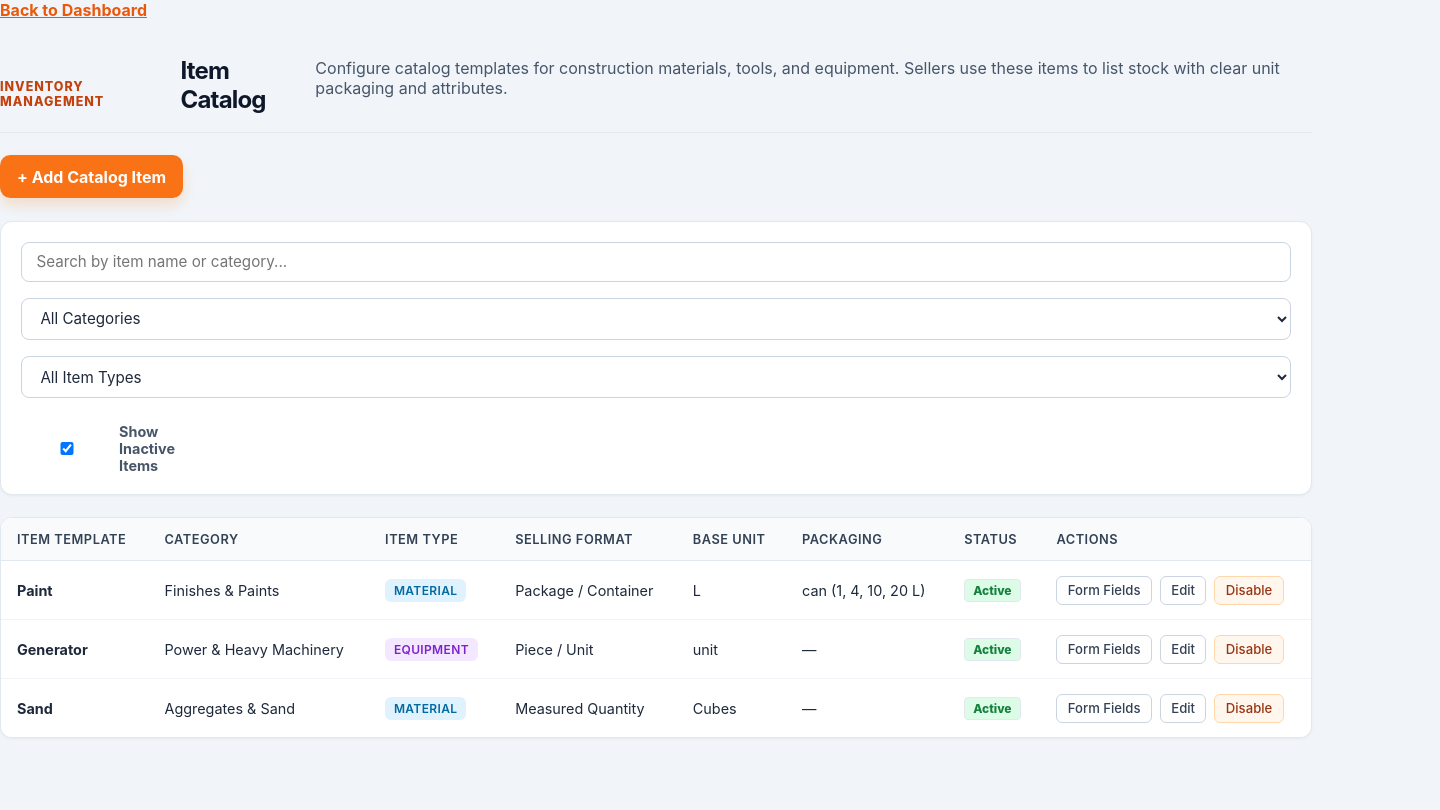
Test case: ManagerCatalogPage › opens form fields viewer modal on clicking Form Fields
This screenshot has width=1440, height=810.
Click the button "Form Fields" in the row of "Finishes & Paints".
click(1104, 590)  # box x1=1056 y1=576 x2=1152 y2=605
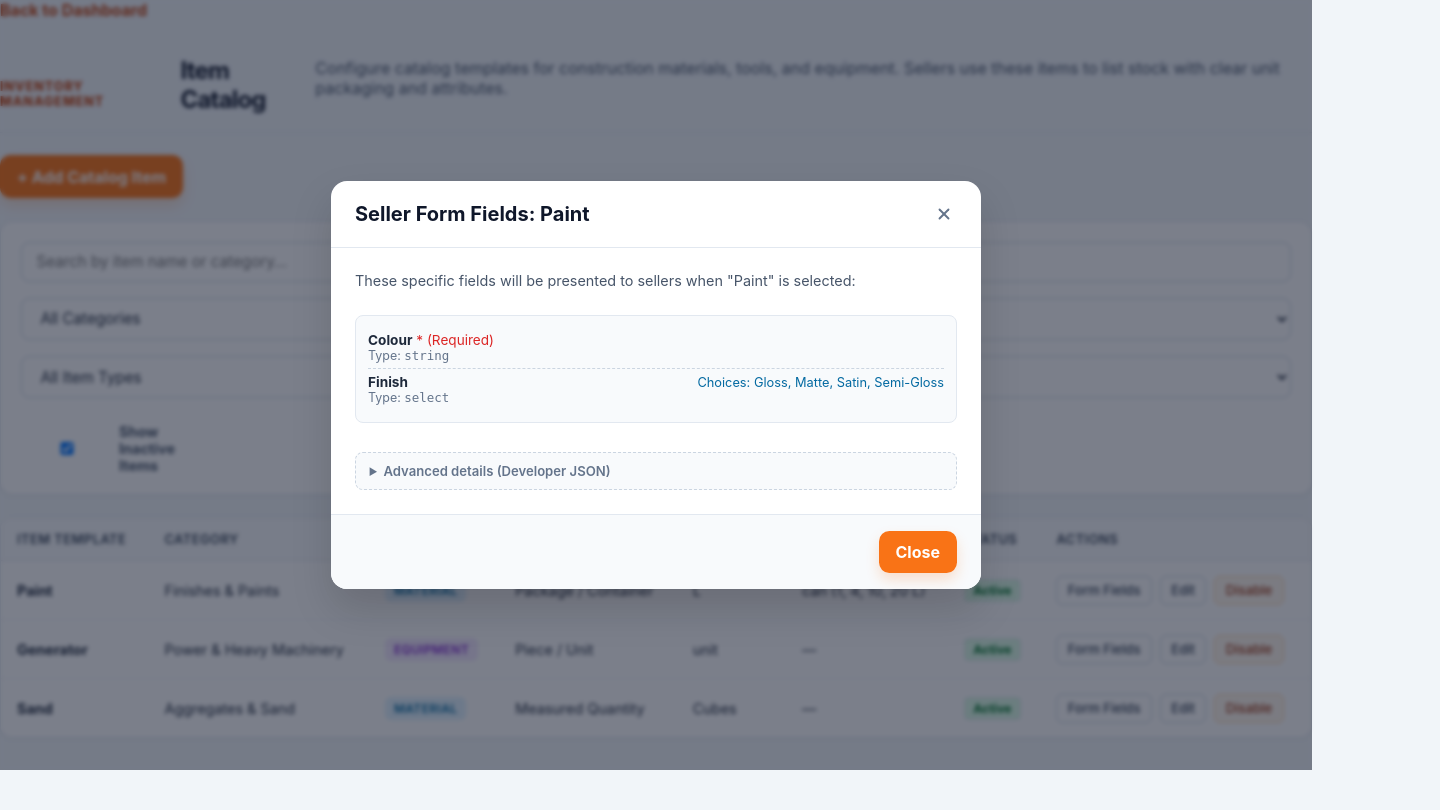
Now the heading "Seller Form Fields: Paint" is shown, box x1=355 y1=202 x2=590 y2=226
Now the text "Colour" is shown, box x1=368 y1=332 x2=412 y2=348
